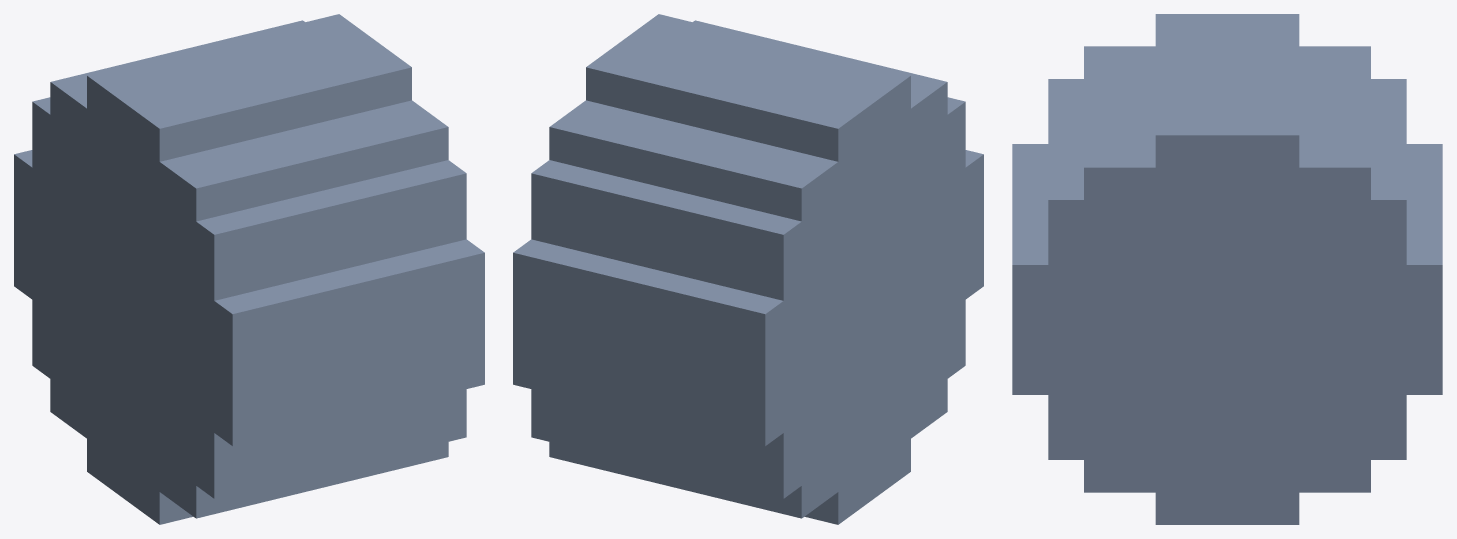
Rendered from tuyau_basic.glb.
The picture shows the model from 3 angles, left to right: view 1: azimuth 30°, elevation 25°; view 2: azimuth 150°, elevation 25°; view 3: azimuth 270°, elevation 25°; orthographic projection.
Visible parts, largest first — view 1: generated(Clone); view 2: generated(Clone); view 3: generated(Clone).
Part boxes in pixels (x1,y1,x2,y2): generated(Clone): (14,14,484,524); generated(Clone): (513,14,983,524); generated(Clone): (1012,14,1442,524).
Size of the model in its own units: 8 by 12 by 12.
Materials: 1 (1 with a texture image).
